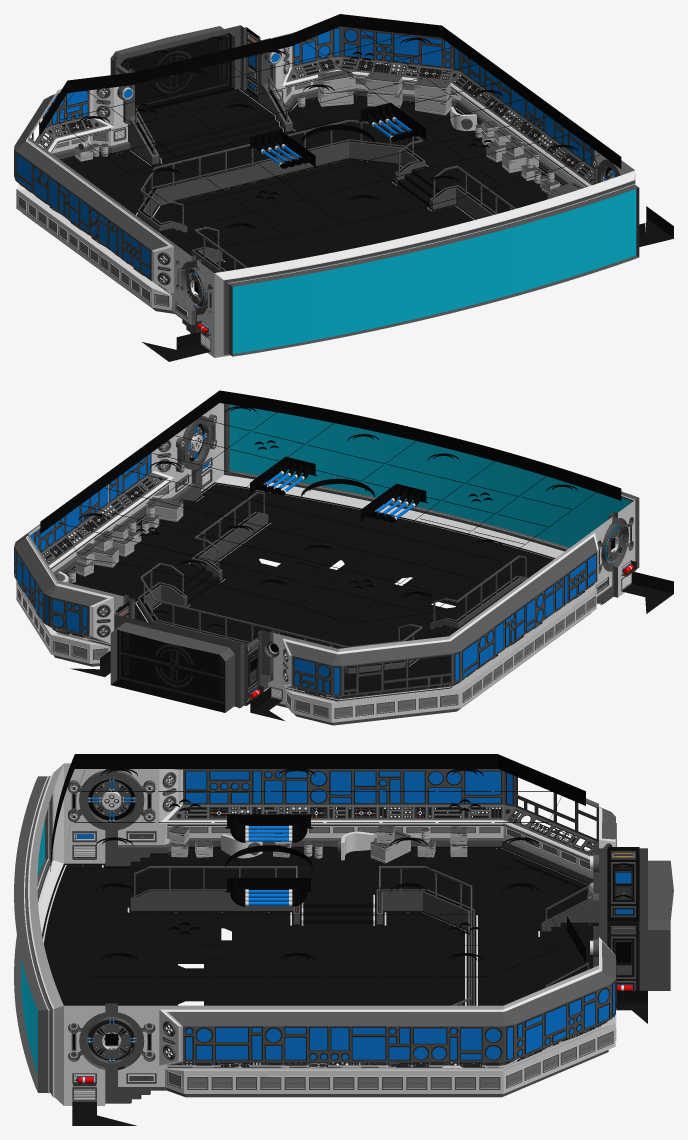
Rendered from BridgeV74.fbx.
The picture shows the model from 3 angles, top to bottom: view 1: azimuth 30°, elevation 25°; view 2: azimuth 150°, elevation 25°; view 3: azimuth 270°, elevation 25°; orthographic projection. The views are drawn at different scales.
Parts seen in each view (by area): view 1: Bridge, BridgeBackgroundObjects, BridgeDoor; view 2: Bridge, BridgeDoor, BridgeBackgroundObjects; view 3: Bridge, BridgeBackgroundObjects, BridgeFloorLightStrip, BridgeWallPortLightStrip.
Boxes of the visible parts, x1,y1,x2,y2 form: Bridge: (14,14,673,361); BridgeBackgroundObjects: (75,69,584,293); BridgeDoor: (120,33,231,109); Bridge: (14,390,673,725); BridgeDoor: (117,630,225,705); BridgeBackgroundObjects: (57,497,454,686); Bridge: (14,754,673,1125); BridgeBackgroundObjects: (169,825,597,1067); BridgeFloorLightStrip: (43,848,598,1103); BridgeWallPortLightStrip: (167,1025,600,1068).
Size of what is drawn, in the model's own units: 21.11 by 4.55 by 20.25.
